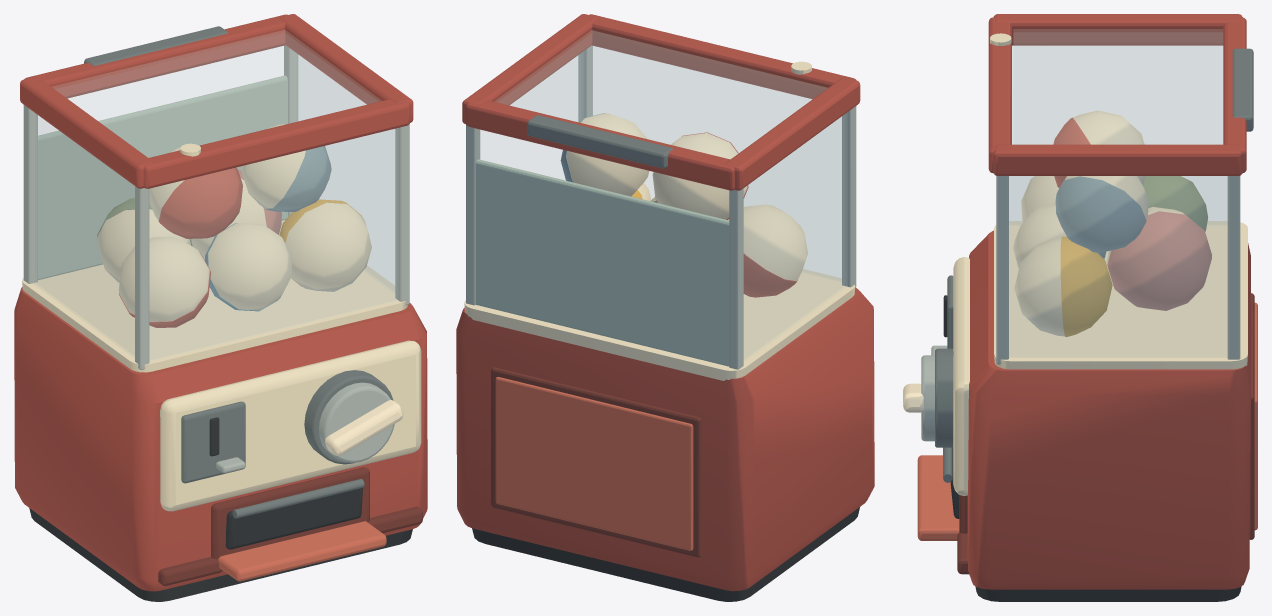
3 views of the same model, side by side, from view 1: azimuth 30°, elevation 25°; view 2: azimuth 150°, elevation 25°; view 3: azimuth 270°, elevation 25° (orthographic). The views are drawn at different scales.
Visible parts, largest first — view 1: Asset_chest; view 2: Asset_chest; view 3: Asset_chest.
Part boxes in pixels (bbox=[...]): Asset_chest: bbox=[14, 14, 427, 601]; Asset_chest: bbox=[456, 14, 874, 601]; Asset_chest: bbox=[903, 14, 1257, 601].
Bounding box in the file's own units: 2.95 × 4.2 × 2.98.
Materials: 2 (2 with a texture image).
